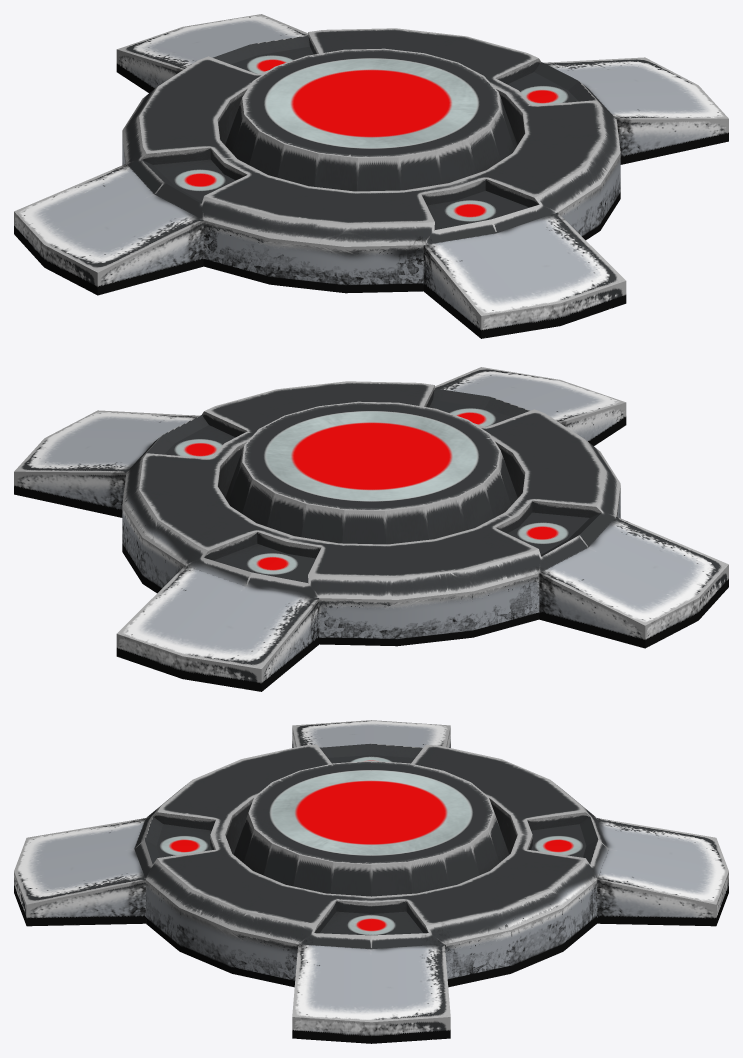
Rendered from landmine.obj.
The picture shows the model from 3 angles, top to bottom: view 1: azimuth 30°, elevation 25°; view 2: azimuth 150°, elevation 25°; view 3: azimuth 270°, elevation 25°; orthographic projection. The views are drawn at different scales.
Parts seen in each view (by area): view 1: landmine; view 2: landmine; view 3: landmine.
Part boxes in pixels (left/top/right/bottom): landmine: left=14, top=14, right=728, bottom=338; landmine: left=14, top=367, right=728, bottom=691; landmine: left=14, top=720, right=728, bottom=1043.
Bounding box in the file's own units: 0.6125 × 0.0756 × 0.6125.
